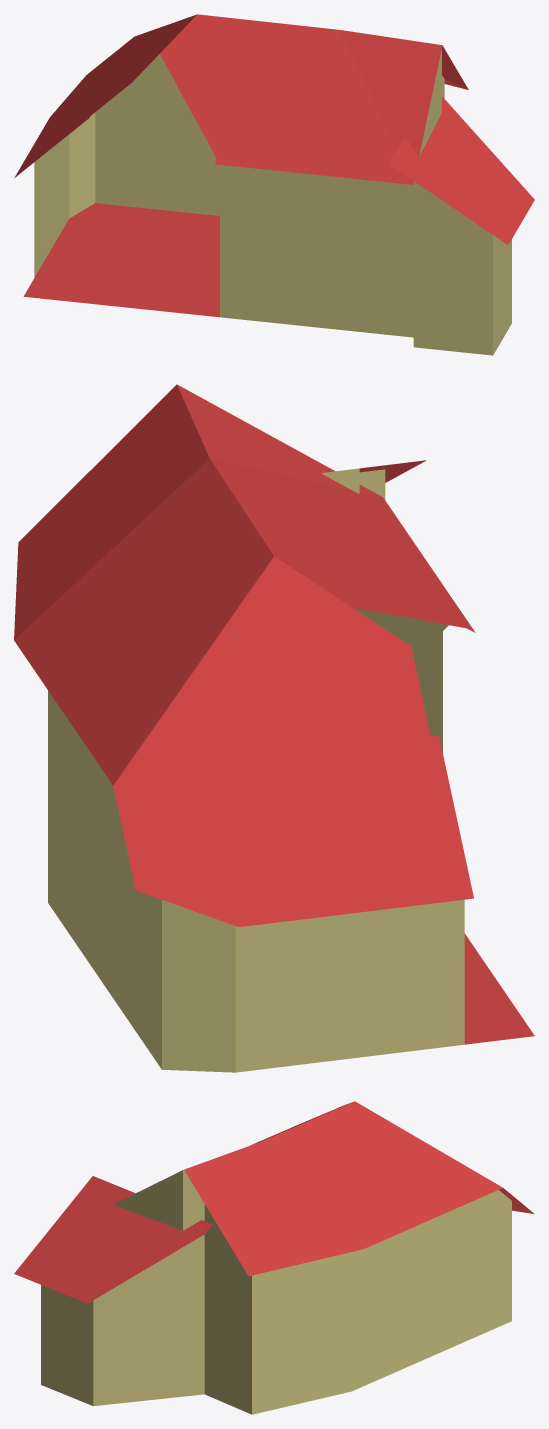
3 renders of one model, top to bottom at view 1: azimuth 30°, elevation 25°; view 2: azimuth 150°, elevation 25°; view 3: azimuth 270°, elevation 25°, orthographic. The views are drawn at different scales.
Size of the model in its own units: 21.12 by 27.2 by 13.11.
